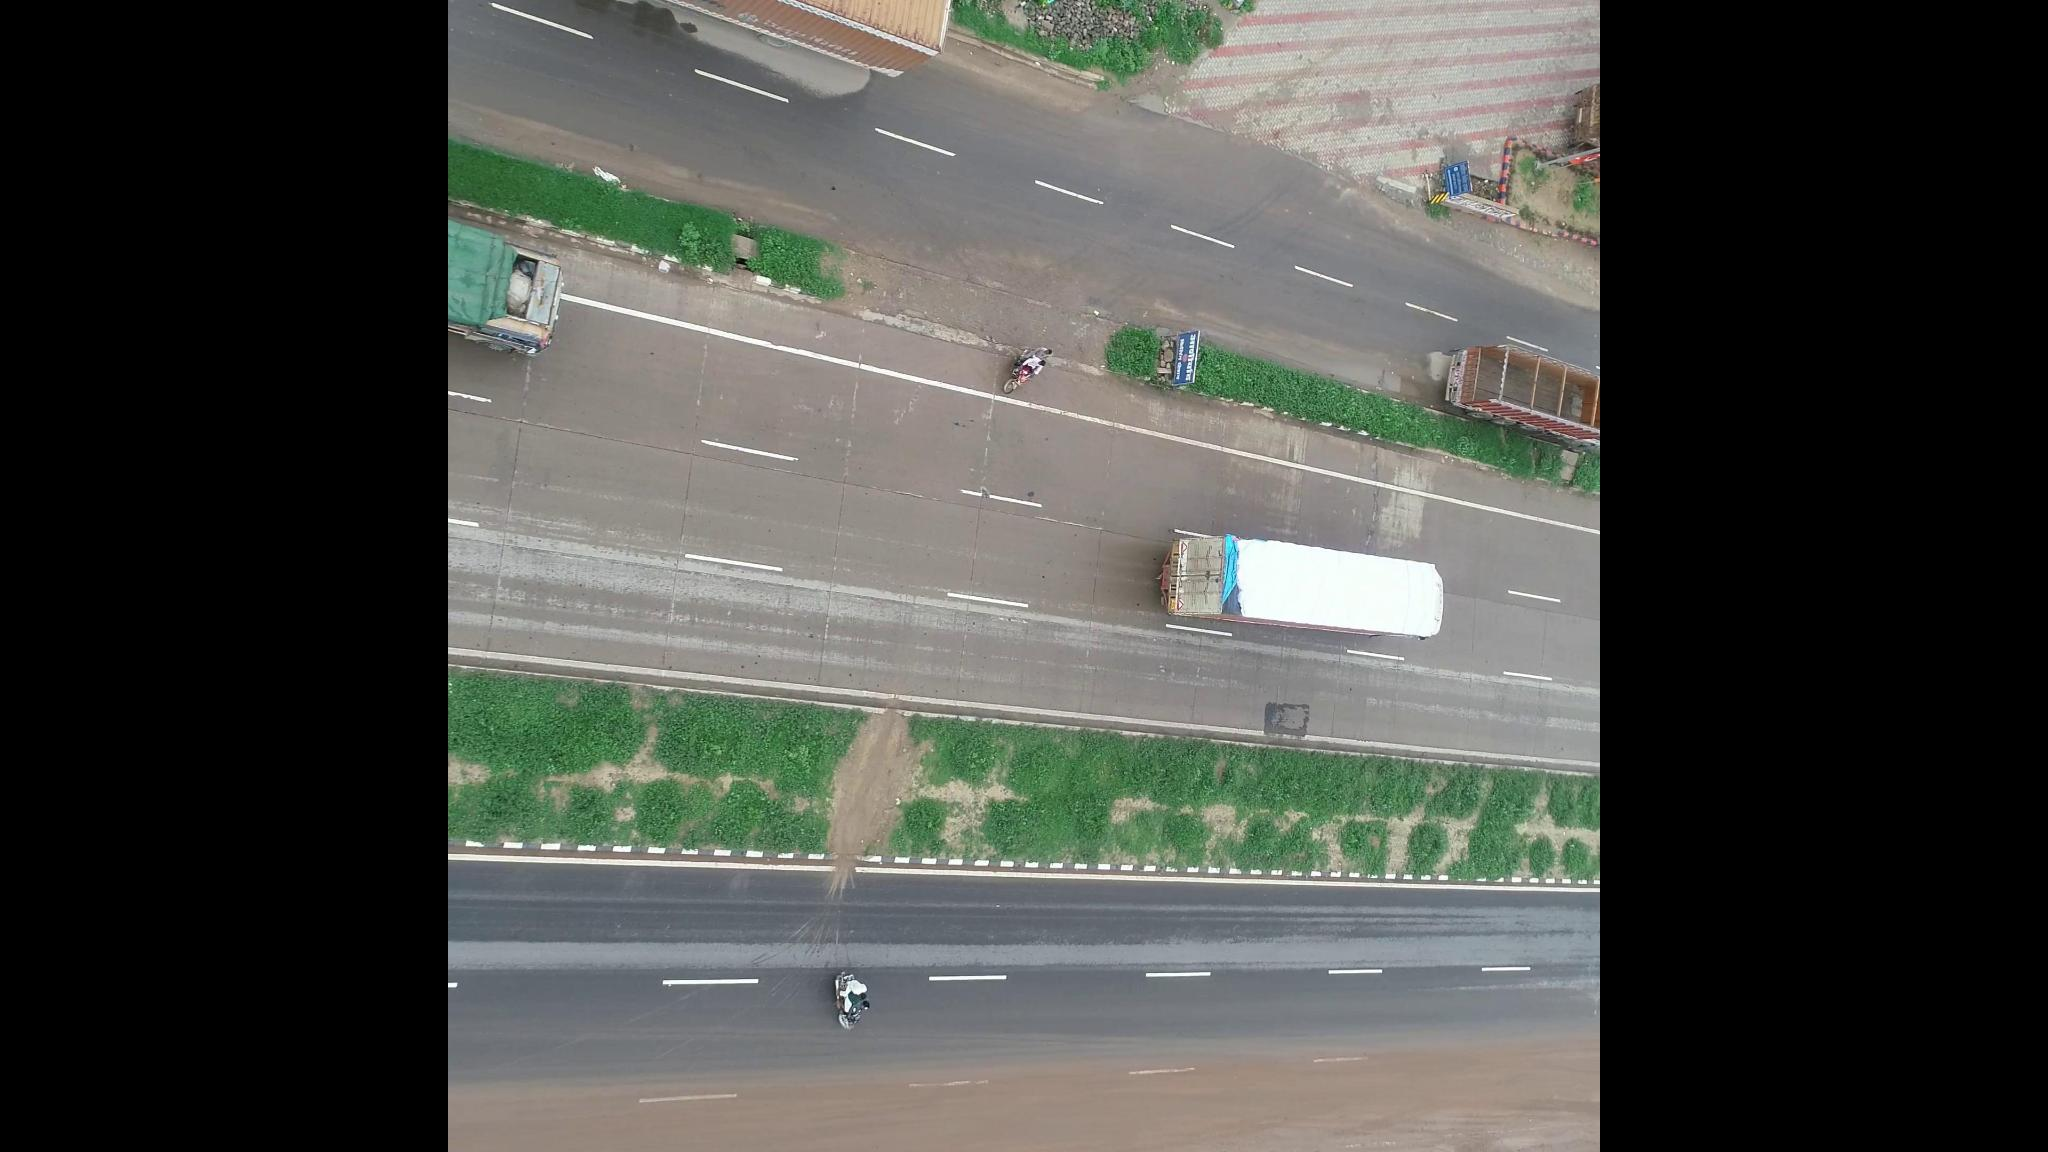Muddy_road: (474, 1087, 973, 1152), (992, 1073, 1342, 1152), (1346, 1048, 1587, 1152)
